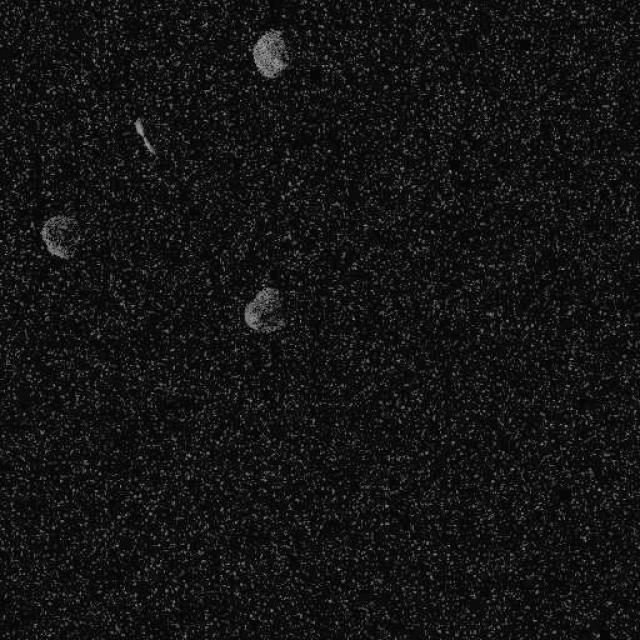D2: (242, 285, 286, 334), (40, 212, 81, 260), (250, 28, 289, 78), (132, 116, 156, 156)
